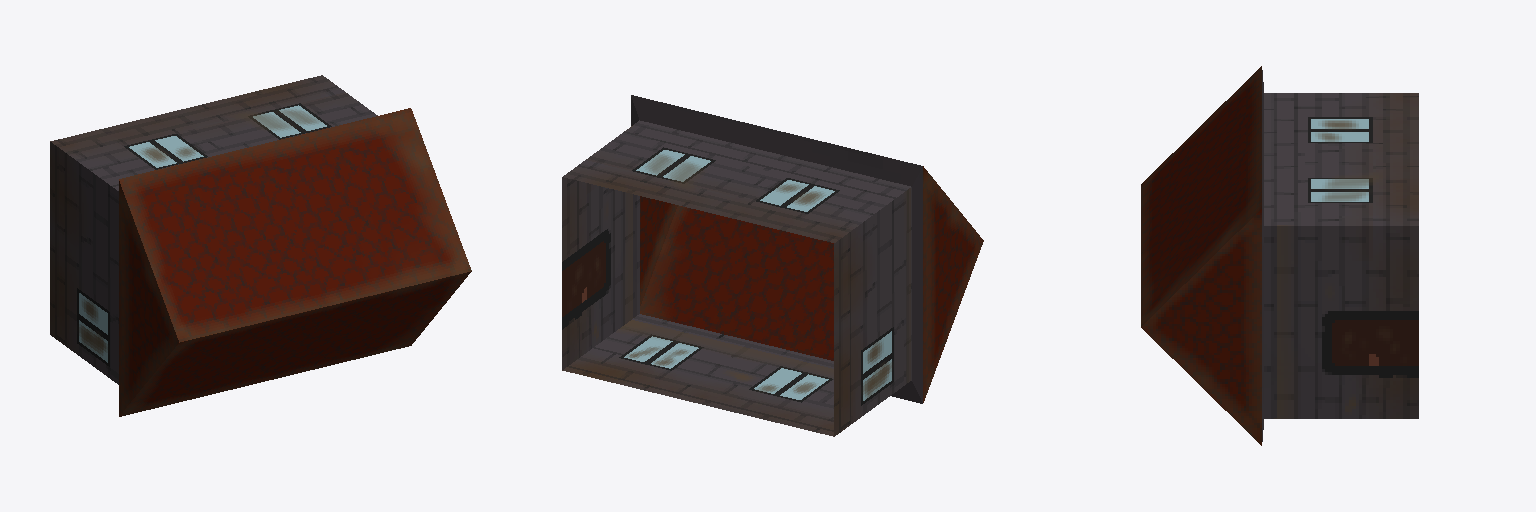
The picture shows the model from 3 angles: view 1: azimuth 30°, elevation 25°; view 2: azimuth 150°, elevation 25°; view 3: azimuth 270°, elevation 25°; orthographic projection.
Parts seen in each view (by area): view 1: Cube; view 2: Cube; view 3: Cube.
Part boxes in pixels (x1,y1,x2,y2): Cube: (50, 75, 471, 416); Cube: (562, 95, 983, 436); Cube: (1141, 66, 1418, 445).
Bounding box in the file's own units: 3.16 × 2.46 × 2.61.
1 materials, 1 textured.